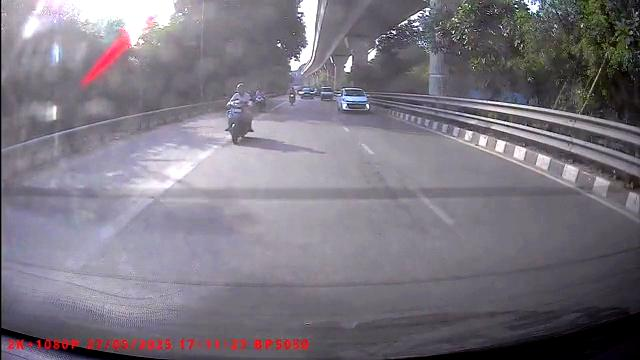motorcycle_with_helmet: (225, 81, 256, 146)
